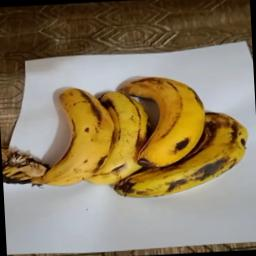Banana Unripe: (8, 62, 254, 204)
